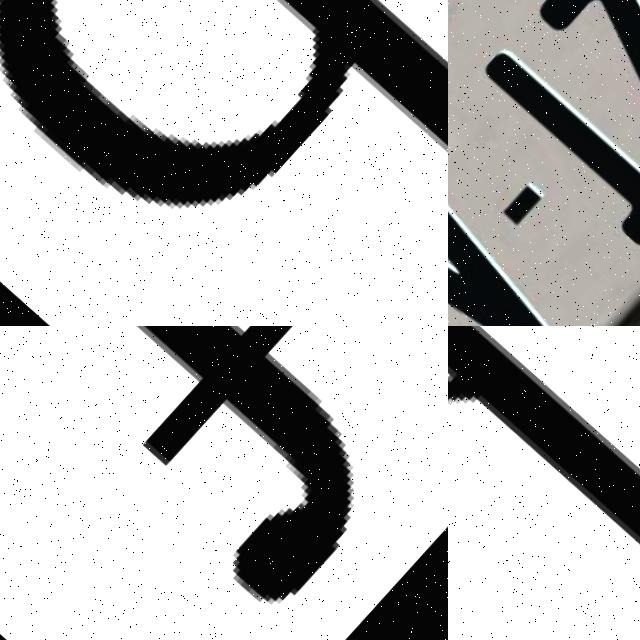2: (529, 0, 640, 191)
A: (448, 147, 589, 326)
F: (0, 326, 448, 640)
P: (448, 326, 640, 640)
T: (458, 23, 640, 269)
